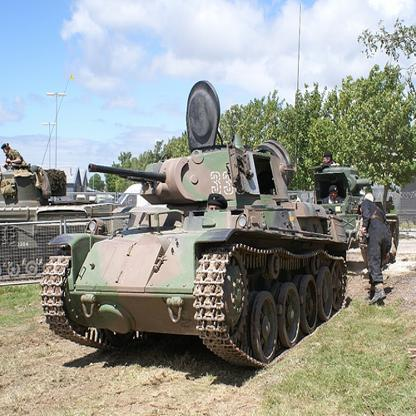Tank: (39, 136, 356, 368)
